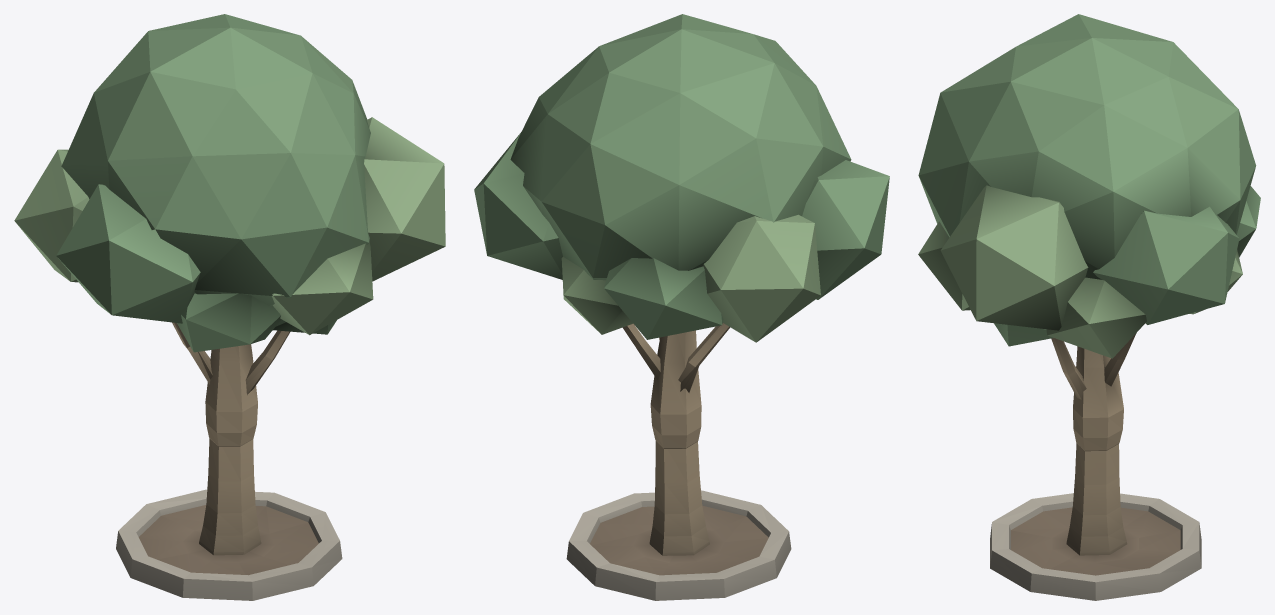
File: tree2.glb
The picture shows the model from 3 angles, left to right: view 1: azimuth 30°, elevation 25°; view 2: azimuth 150°, elevation 25°; view 3: azimuth 270°, elevation 25°; orthographic projection. The views are drawn at different scales.
Parts seen in each view (by area): view 1: tree2; view 2: tree2; view 3: tree2.
Boxes of the visible parts, left/top/right/bottom form: tree2: left=14, top=14, right=445, bottom=600; tree2: left=474, top=14, right=889, bottom=600; tree2: left=918, top=14, right=1260, bottom=600.
Size of the model in its own units: 4.05 by 5.85 by 3.52.
